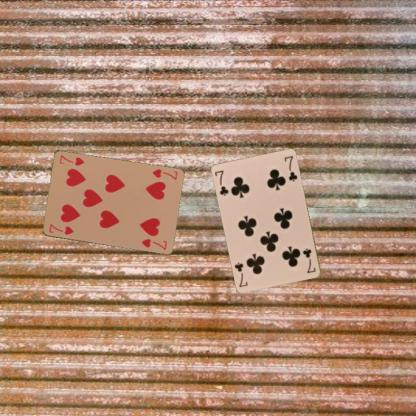7c: (300, 246, 318, 275), (213, 168, 230, 197)
7h: (150, 166, 178, 182), (46, 222, 75, 236)
